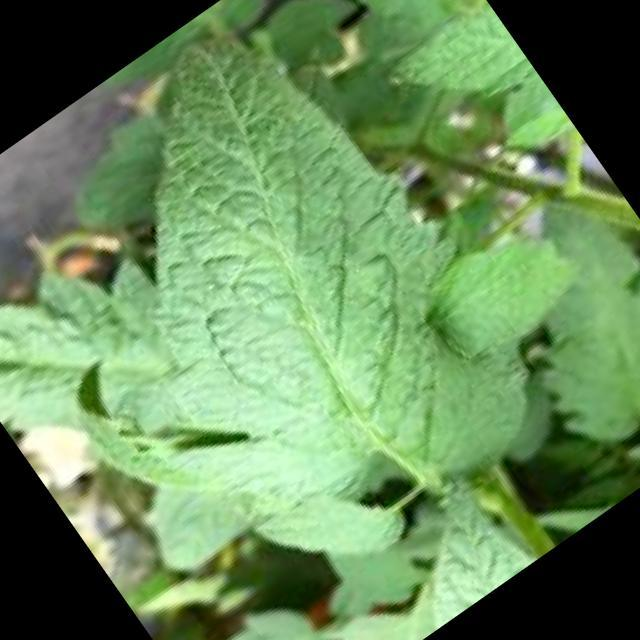Tomato healthy leaf: (79, 29, 579, 516)
